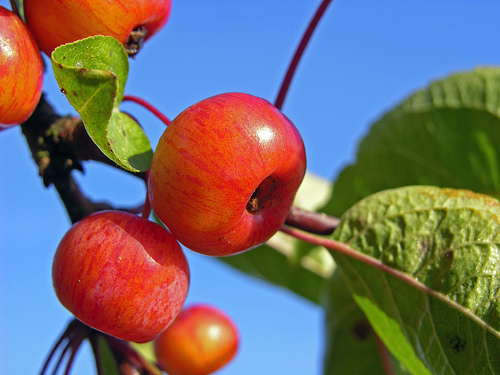apple: (139, 87, 307, 259), (53, 206, 196, 340)
